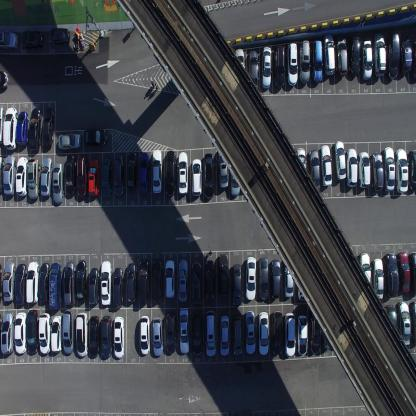car: (384, 251, 399, 298), (48, 261, 62, 310), (372, 32, 386, 78), (396, 251, 411, 293), (394, 148, 408, 193), (397, 301, 411, 345), (25, 260, 39, 304), (14, 261, 28, 305), (384, 304, 399, 345), (321, 33, 335, 76), (3, 107, 17, 150), (75, 312, 88, 358), (63, 262, 76, 308), (62, 308, 75, 354), (26, 157, 40, 199), (151, 257, 164, 302), (100, 314, 113, 359), (334, 35, 348, 76), (310, 39, 323, 83), (1, 310, 14, 354), (164, 150, 176, 197), (204, 310, 216, 357), (271, 309, 283, 356), (298, 39, 310, 86), (14, 312, 27, 355), (203, 152, 215, 198), (245, 255, 257, 301), (177, 151, 189, 196), (217, 252, 229, 297), (204, 260, 216, 305), (138, 259, 150, 304), (257, 311, 269, 356), (284, 312, 296, 357), (309, 307, 321, 352), (382, 146, 394, 191), (400, 30, 412, 75), (388, 31, 399, 80), (370, 151, 383, 192), (3, 155, 16, 196), (217, 145, 229, 189), (138, 151, 150, 195), (320, 143, 332, 187), (286, 42, 298, 86), (273, 44, 285, 88), (20, 29, 44, 51), (100, 259, 111, 307), (88, 315, 100, 359), (38, 312, 50, 356), (333, 140, 346, 180), (360, 252, 372, 295), (29, 108, 41, 151), (47, 26, 70, 48), (27, 308, 38, 354), (218, 314, 230, 356), (297, 259, 309, 301), (308, 149, 320, 191), (348, 35, 360, 77), (126, 150, 138, 192), (64, 154, 76, 196), (52, 162, 64, 204), (40, 155, 52, 197), (83, 127, 108, 147), (295, 146, 306, 191), (101, 158, 113, 199), (42, 106, 54, 147), (3, 261, 15, 302), (177, 260, 188, 304), (231, 263, 242, 307), (244, 310, 255, 354), (165, 311, 176, 355), (192, 312, 203, 356), (258, 256, 269, 300), (373, 256, 384, 300), (76, 155, 87, 199), (113, 315, 124, 359), (76, 259, 87, 303), (39, 260, 50, 304), (179, 307, 189, 355), (16, 157, 28, 197), (297, 313, 308, 356), (112, 266, 123, 309), (88, 158, 100, 197), (50, 315, 62, 354), (231, 314, 242, 356), (164, 258, 175, 300), (270, 258, 281, 300), (114, 154, 125, 196), (191, 260, 201, 306), (284, 252, 294, 298), (322, 311, 334, 349), (152, 316, 163, 357), (346, 147, 357, 188), (126, 262, 137, 303), (152, 149, 162, 194), (358, 151, 370, 188), (16, 110, 28, 147), (191, 157, 202, 197), (361, 40, 372, 80), (261, 45, 271, 89), (230, 154, 240, 197), (248, 49, 258, 92), (234, 48, 244, 90), (140, 314, 150, 356), (88, 267, 99, 305), (57, 132, 81, 149), (408, 251, 416, 296), (0, 30, 18, 50), (408, 149, 416, 192), (410, 301, 416, 345), (0, 69, 9, 92), (0, 105, 5, 145), (412, 40, 416, 81), (0, 154, 4, 194), (0, 263, 3, 302)
